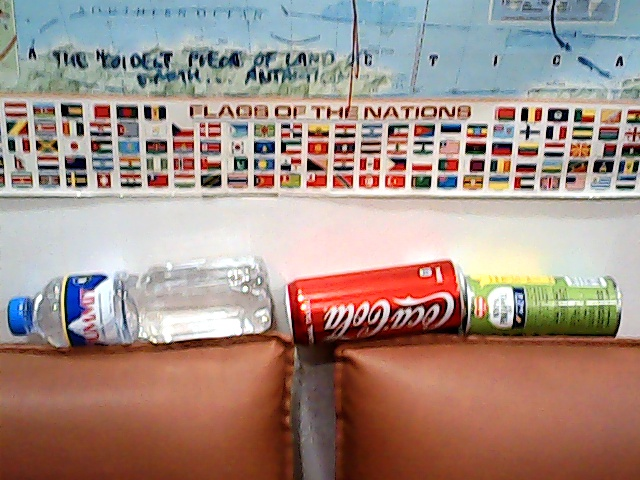Cola: (281, 257, 468, 348)
Pine Juice: (457, 273, 635, 354)
Summit Water: (3, 254, 279, 345)
